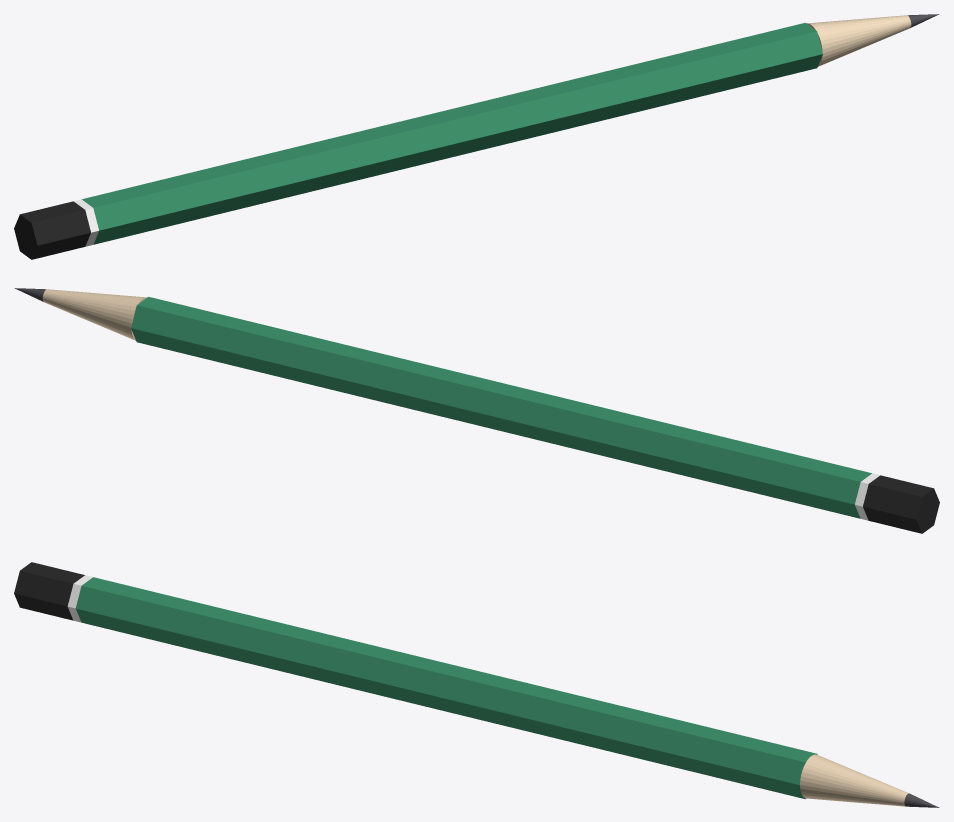
File: crayon.glb
The picture shows the model from 3 angles, top to bottom: view 1: azimuth 30°, elevation 25°; view 2: azimuth 150°, elevation 25°; view 3: azimuth 330°, elevation 25°; orthographic projection.
Parts seen in each view (by area): view 1: Crayon_BIC_Criterium_550_HB; view 2: Crayon_BIC_Criterium_550_HB; view 3: Crayon_BIC_Criterium_550_HB.
Part boxes in pixels (box(x1,y1,x2,y2)): Crayon_BIC_Criterium_550_HB: box(14, 14, 939, 259); Crayon_BIC_Criterium_550_HB: box(14, 288, 939, 533); Crayon_BIC_Criterium_550_HB: box(14, 562, 939, 807).
Size of the model in its own units: 1.7 by 0.073 by 0.076.
